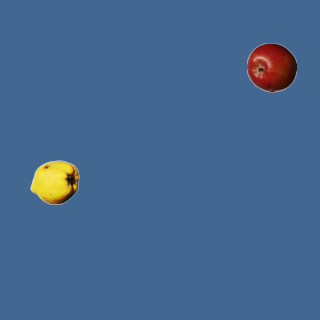Apple Braeburn: (246, 42, 296, 92)
Quince: (29, 157, 79, 207)
